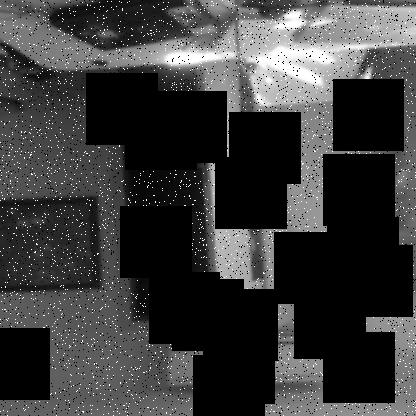Porte: (105, 1, 305, 358)
